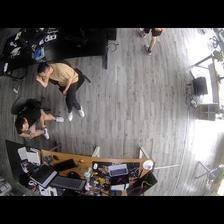normal: (37, 65, 91, 119), (15, 105, 64, 141)
